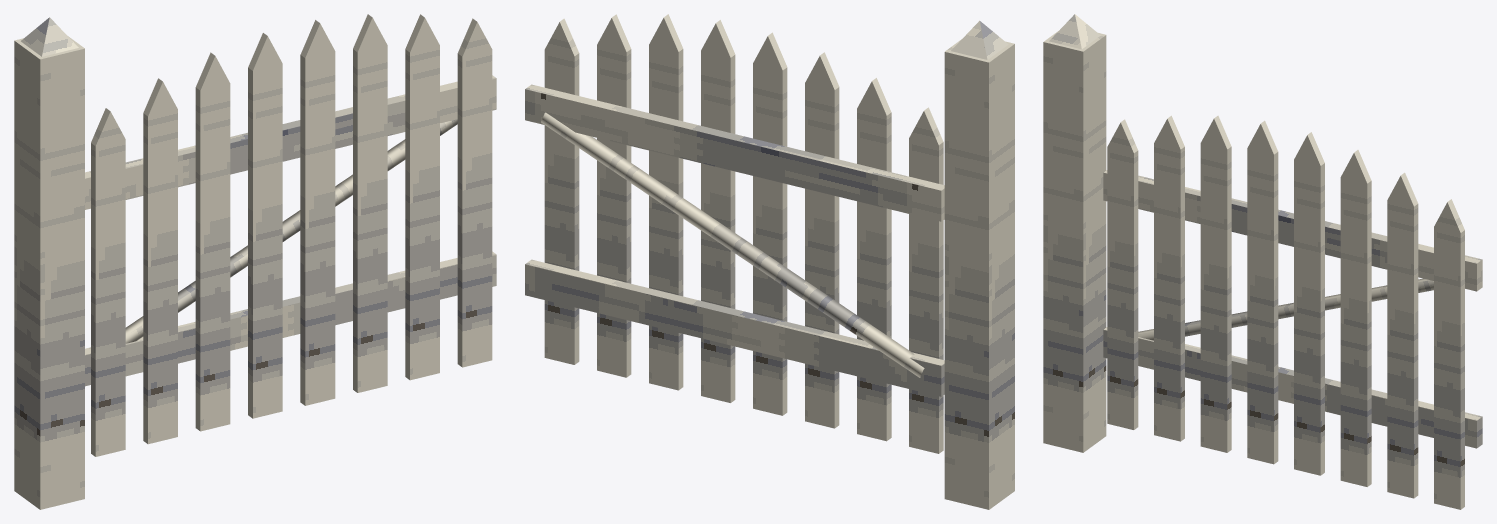
The model's file is FN_GardenGate_1.25m.obj.
The picture shows the model from 3 angles, left to right: view 1: azimuth 30°, elevation 25°; view 2: azimuth 150°, elevation 25°; view 3: azimuth 330°, elevation 25°; orthographic projection. The views are drawn at different scales.
Visible parts, largest first — view 1: GateLeaf_M_Arch_TrimPainted, FN_GardenGate_1.25m_Mesh_M_Arch_TrimPainted; view 2: GateLeaf_M_Arch_TrimPainted, FN_GardenGate_1.25m_Mesh_M_Arch_TrimPainted; view 3: GateLeaf_M_Arch_TrimPainted, FN_GardenGate_1.25m_Mesh_M_Arch_TrimPainted.
Part boxes in pixels (box(x1,y1,x2,y2)): GateLeaf_M_Arch_TrimPainted: box(85, 14, 496, 456); FN_GardenGate_1.25m_Mesh_M_Arch_TrimPainted: box(14, 17, 84, 509); GateLeaf_M_Arch_TrimPainted: box(525, 14, 944, 453); FN_GardenGate_1.25m_Mesh_M_Arch_TrimPainted: box(944, 20, 1014, 509); GateLeaf_M_Arch_TrimPainted: box(1103, 115, 1482, 509); FN_GardenGate_1.25m_Mesh_M_Arch_TrimPainted: box(1043, 14, 1106, 452).
Size of the model in its own units: 1.26 by 1.22 by 0.12.
1 material, 1 textured.
